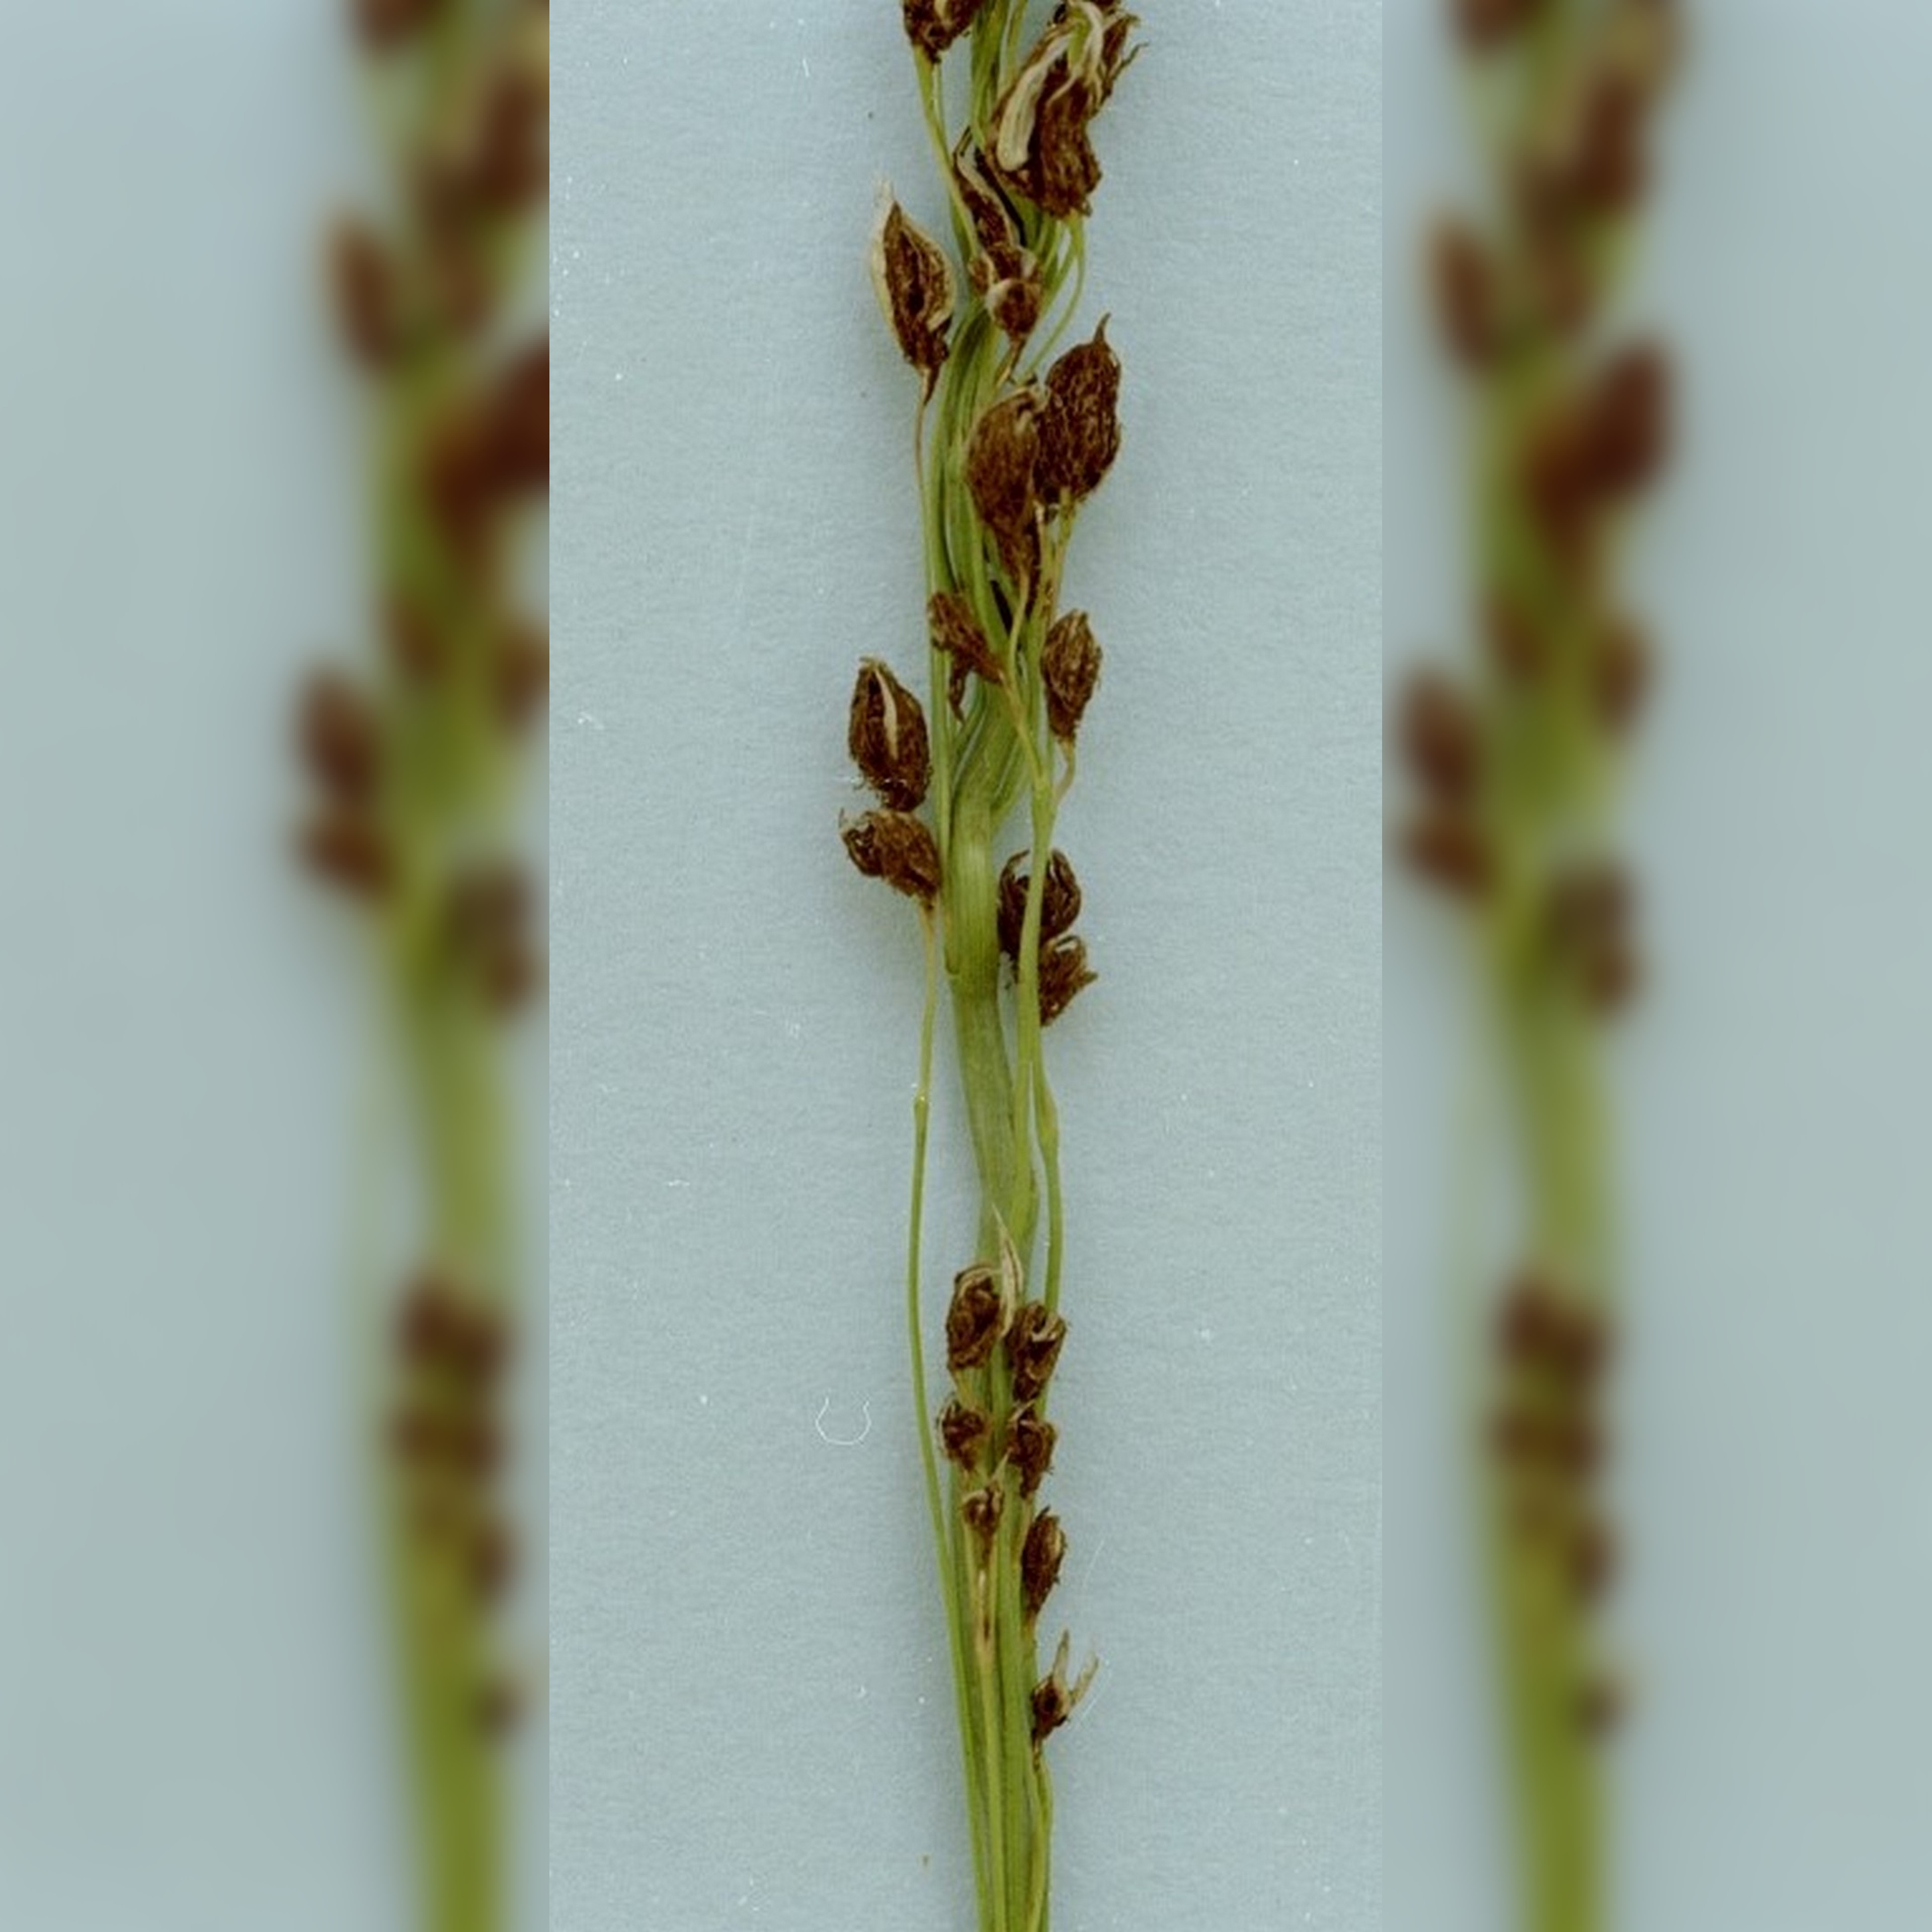Wheat Loose Smut: (748, 35, 1166, 1099)
